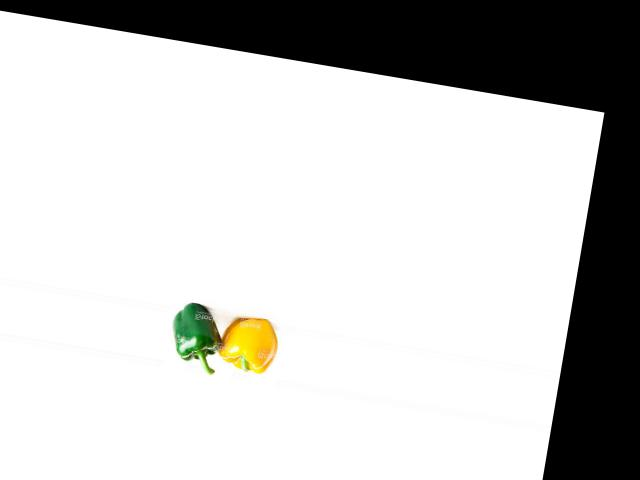bell_pepper: (162, 291, 228, 369)
